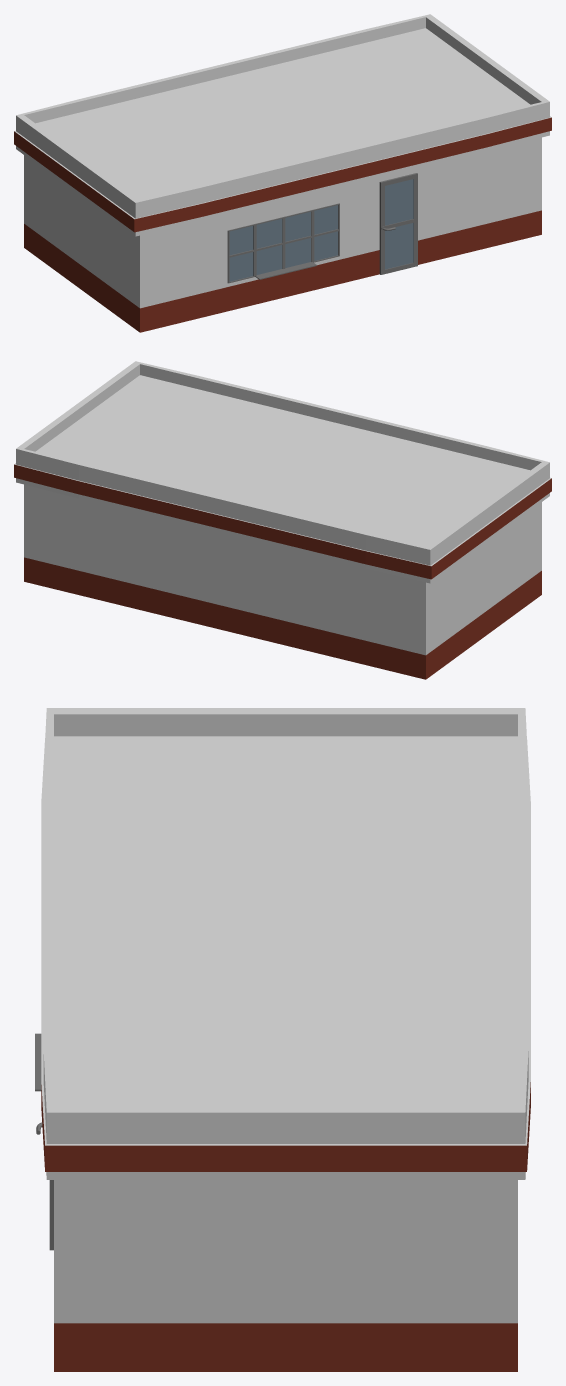
The model's file is gas_station_main_building.fbx.
The picture shows the model from 3 angles, top to bottom: view 1: azimuth 30°, elevation 25°; view 2: azimuth 150°, elevation 25°; view 3: azimuth 270°, elevation 25°; orthographic projection. The views are drawn at different scales.
Parts seen in each view (by area): view 1: Cube.001; view 2: Cube.001; view 3: Cube.001.
Part boxes in pixels (x1,y1,x2,y2): Cube.001: [14, 14, 551, 332]; Cube.001: [14, 361, 551, 679]; Cube.001: [35, 708, 530, 1371].
Bounding box in the file's own units: 2078 × 632 × 1068.
